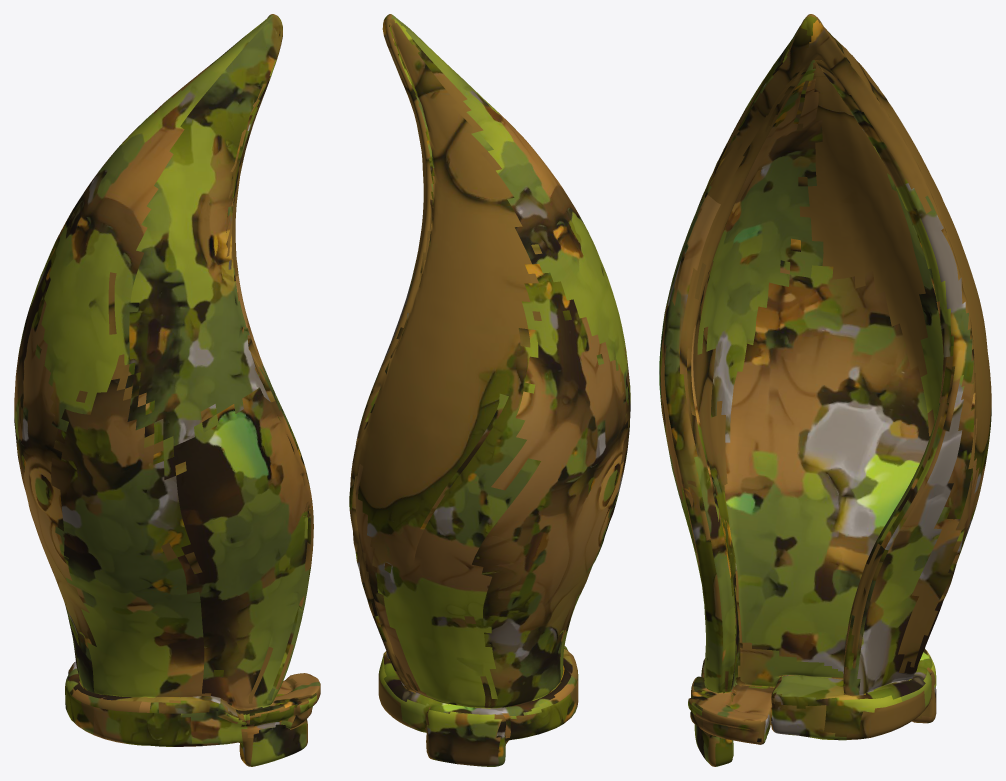
File: nat-Base-Leaf-L-15000.fbx
3 renders of one model, left to right at view 1: azimuth 30°, elevation 25°; view 2: azimuth 150°, elevation 25°; view 3: azimuth 270°, elevation 25°, orthographic. The views are drawn at different scales.
Parts seen in each view (by area): view 1: tripo_node_93e06f30; view 2: tripo_node_93e06f30; view 3: tripo_node_93e06f30.
Part boxes in pixels (<box>): tripo_node_93e06f30: <box>14,14,320,766</box>; tripo_node_93e06f30: <box>349,14,630,766</box>; tripo_node_93e06f30: <box>659,14,991,766</box>.
Size of the model in its own units: 0.3605 by 0.9809 by 0.3884.
